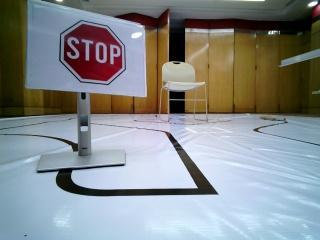stop: (30, 6, 139, 92)
